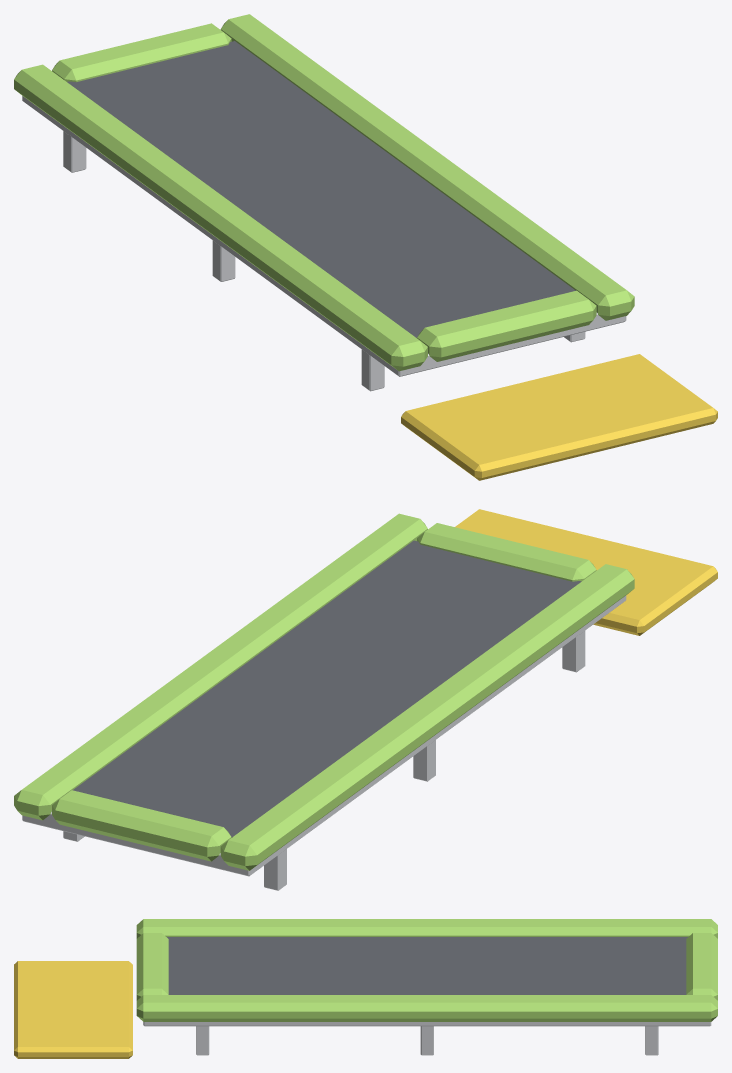
The model's file is trampoline-park-and-soft-play-tumble-track-lane-4d2c60bf__34616.glb.
3 renders of one model, top to bottom at view 1: azimuth 30°, elevation 25°; view 2: azimuth 150°, elevation 25°; view 3: azimuth 270°, elevation 25°, orthographic. The views are drawn at different scales.
Visible parts, largest first — view 1: tumble-track-lane; view 2: tumble-track-lane; view 3: tumble-track-lane.
Boxes of the visible parts, bbox=[...] form: tumble-track-lane: bbox=[14, 14, 717, 480]; tumble-track-lane: bbox=[14, 509, 717, 890]; tumble-track-lane: bbox=[14, 919, 717, 1058].
Size of the model in its own units: 1.6 by 0.4601 by 5.33.
